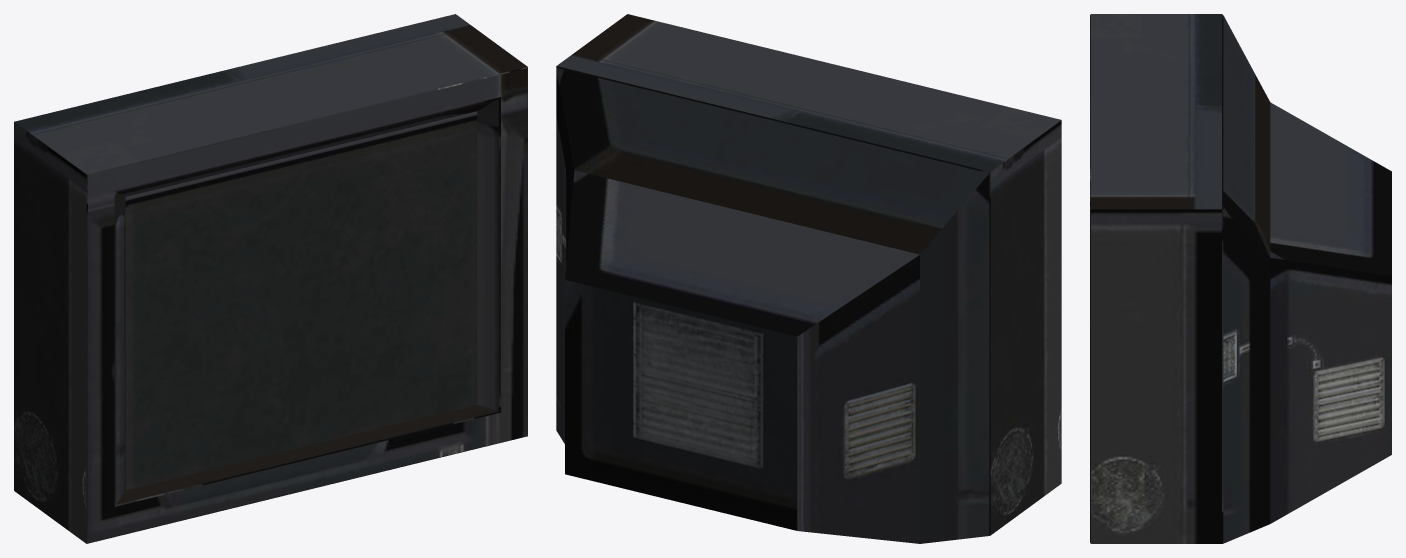
3 renders of one model, left to right at view 1: azimuth 30°, elevation 25°; view 2: azimuth 150°, elevation 25°; view 3: azimuth 270°, elevation 25°, orthographic. The views are drawn at different scales.
Visible parts, largest first — view 1: TV; view 2: TV; view 3: TV.
Boxes of the visible parts, x1=… form: TV: x1=14, y1=14, x2=527, y2=543; TV: x1=556, y1=14, x2=1061, y2=543; TV: x1=1090, y1=14, x2=1391, y2=543.
Bounding box in the file's own units: 2 × 1.6 × 1.31.
